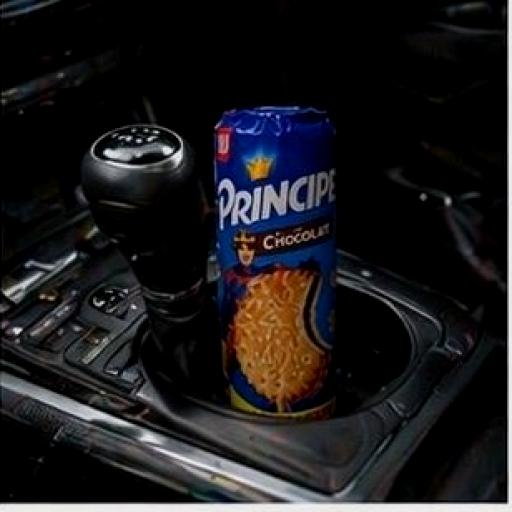prince: (104, 54, 414, 452)
